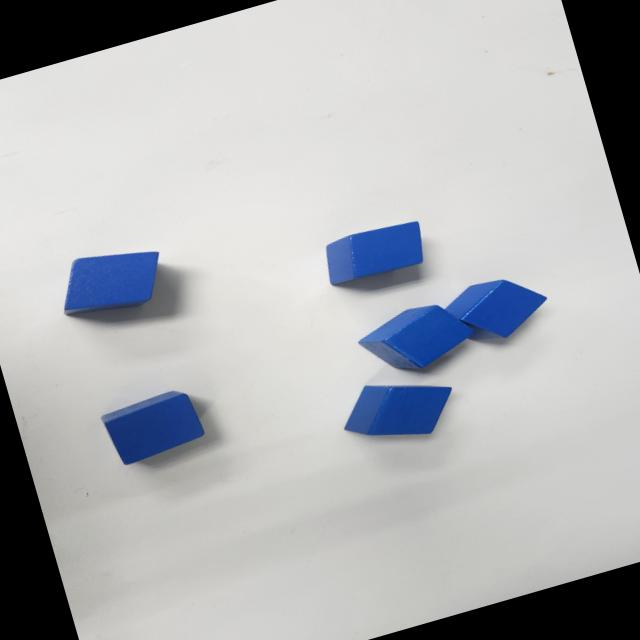blue: (350, 291, 479, 385), (333, 363, 462, 456), (49, 235, 171, 326), (438, 262, 556, 354), (97, 384, 207, 468), (318, 215, 429, 290)
